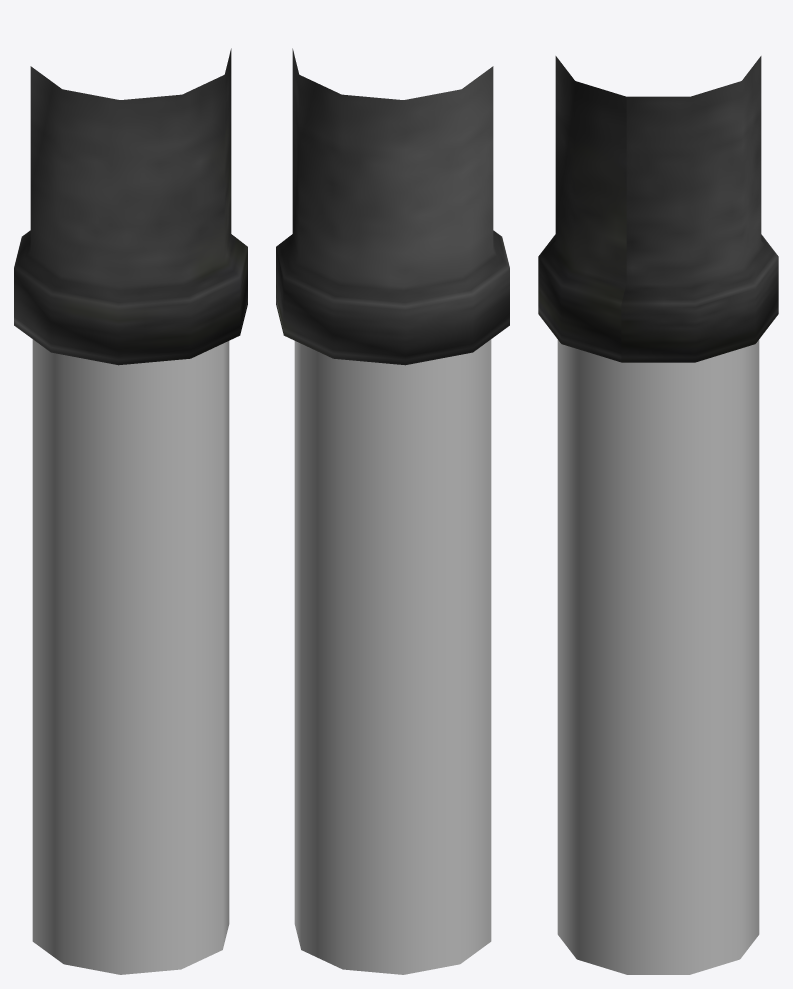
The model's file is pipe.glb.
3 views of the same model, side by side, from view 1: azimuth 30°, elevation 25°; view 2: azimuth 150°, elevation 25°; view 3: azimuth 270°, elevation 25° (orthographic).
Parts seen in each view (by area): view 1: stktex_waterfall_a.png__, pipez1a.jpg__; view 2: stktex_waterfall_a.png__, pipez1a.jpg__; view 3: stktex_waterfall_a.png__, pipez1a.jpg__.
Boxes of the visible parts, x1,y1,x2,y2 form: stktex_waterfall_a.png__: (32, 339, 229, 974); pipez1a.jpg__: (14, 48, 247, 365); stktex_waterfall_a.png__: (294, 339, 491, 974); pipez1a.jpg__: (276, 48, 509, 365); stktex_waterfall_a.png__: (557, 339, 759, 974); pipez1a.jpg__: (538, 56, 778, 362).
Size of the model in its own units: 2.22 by 9.43 by 2.33.
2 materials, 1 textured.
